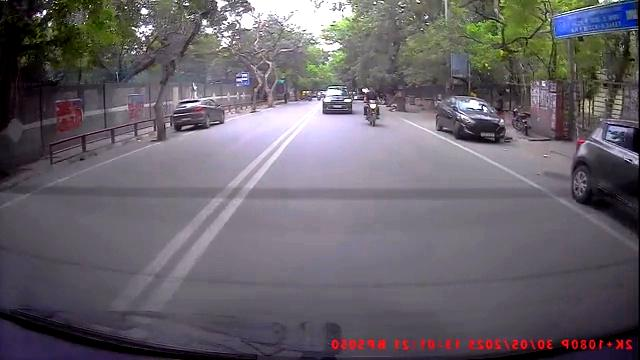motorcycle_without_helmet: (362, 86, 380, 128)
